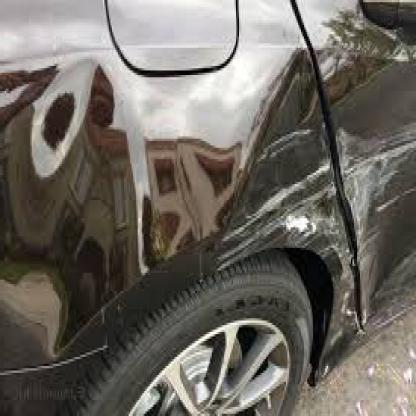dent: (244, 44, 310, 219), (334, 154, 368, 322)
